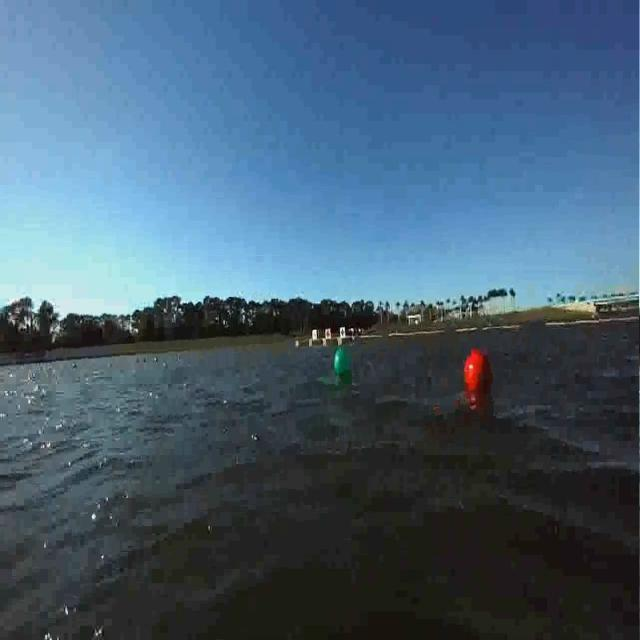green-buoy: (331, 342, 356, 384)
red-buoy: (459, 344, 494, 401)
